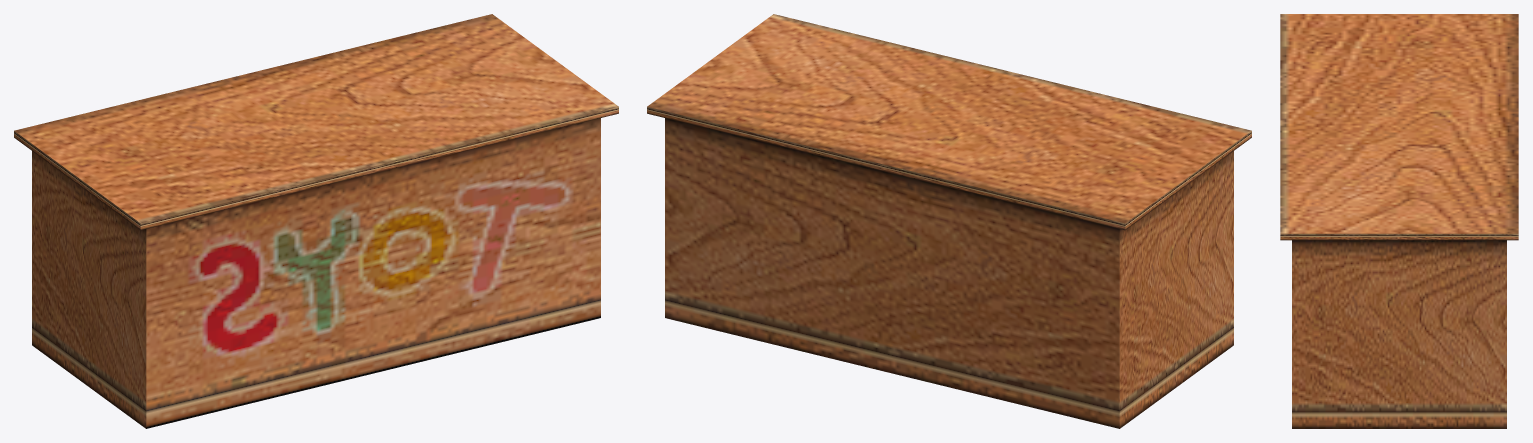
File: toybox.fbx
The picture shows the model from 3 angles, left to right: view 1: azimuth 30°, elevation 25°; view 2: azimuth 150°, elevation 25°; view 3: azimuth 270°, elevation 25°; orthographic projection. The views are drawn at different scales.
Visible parts, largest first — view 1: mesh_0; view 2: mesh_0; view 3: mesh_0.
Boxes of the visible parts, left/top/right/bottom form: mesh_0: left=14, top=14, right=618, bottom=428; mesh_0: left=647, top=14, right=1251, bottom=428; mesh_0: left=1280, top=14, right=1518, bottom=428.
Size of the model in its own units: 121 by 51.5 by 55.5.
1 material, 1 textured.
